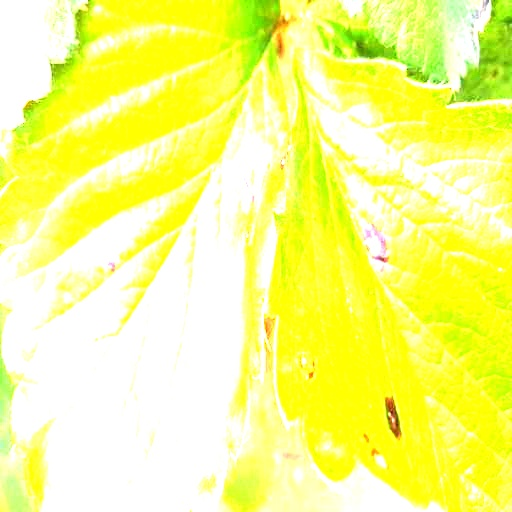Leaf Spot: (0, 0, 293, 511), (264, 44, 511, 511)
